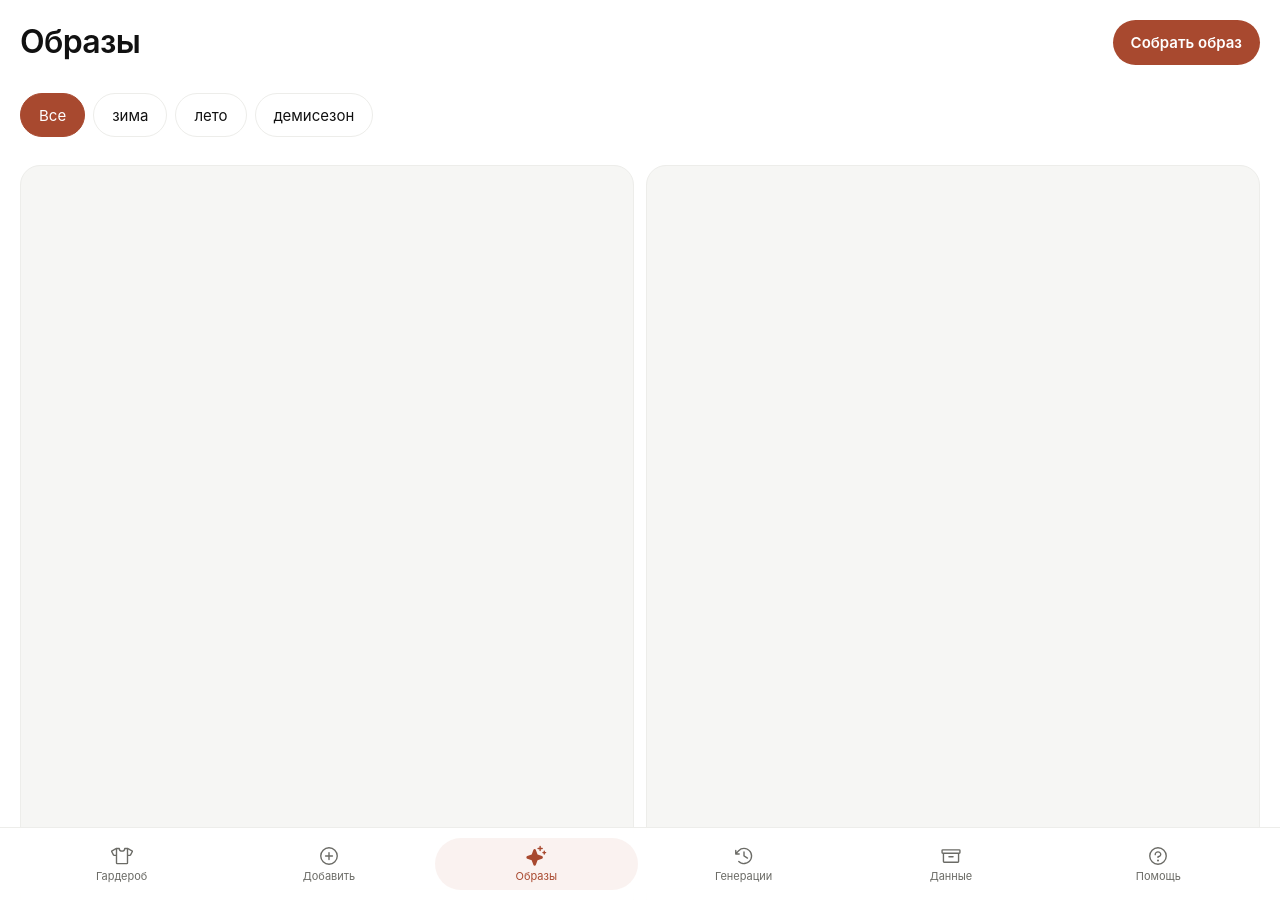
Test: Список образов (T18) › фильтр по сезону прячет чужие образы и возвращает их по «Все»
Click the button "зима": (130, 115) [93, 93, 167, 137]
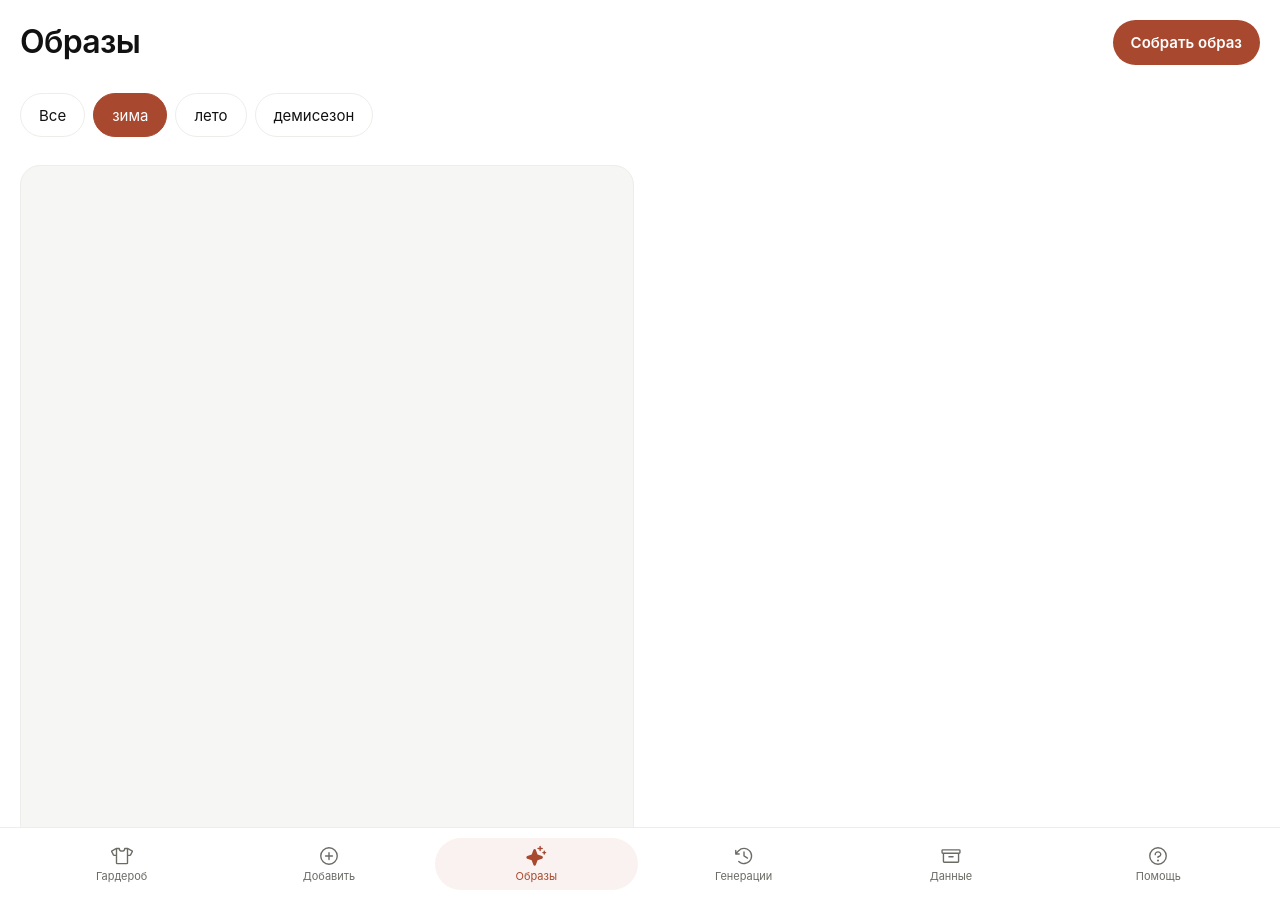
Check: the button "Летний" is not shown
Click the button "Все": (53, 115) [20, 93, 85, 137]
(page scrolled)
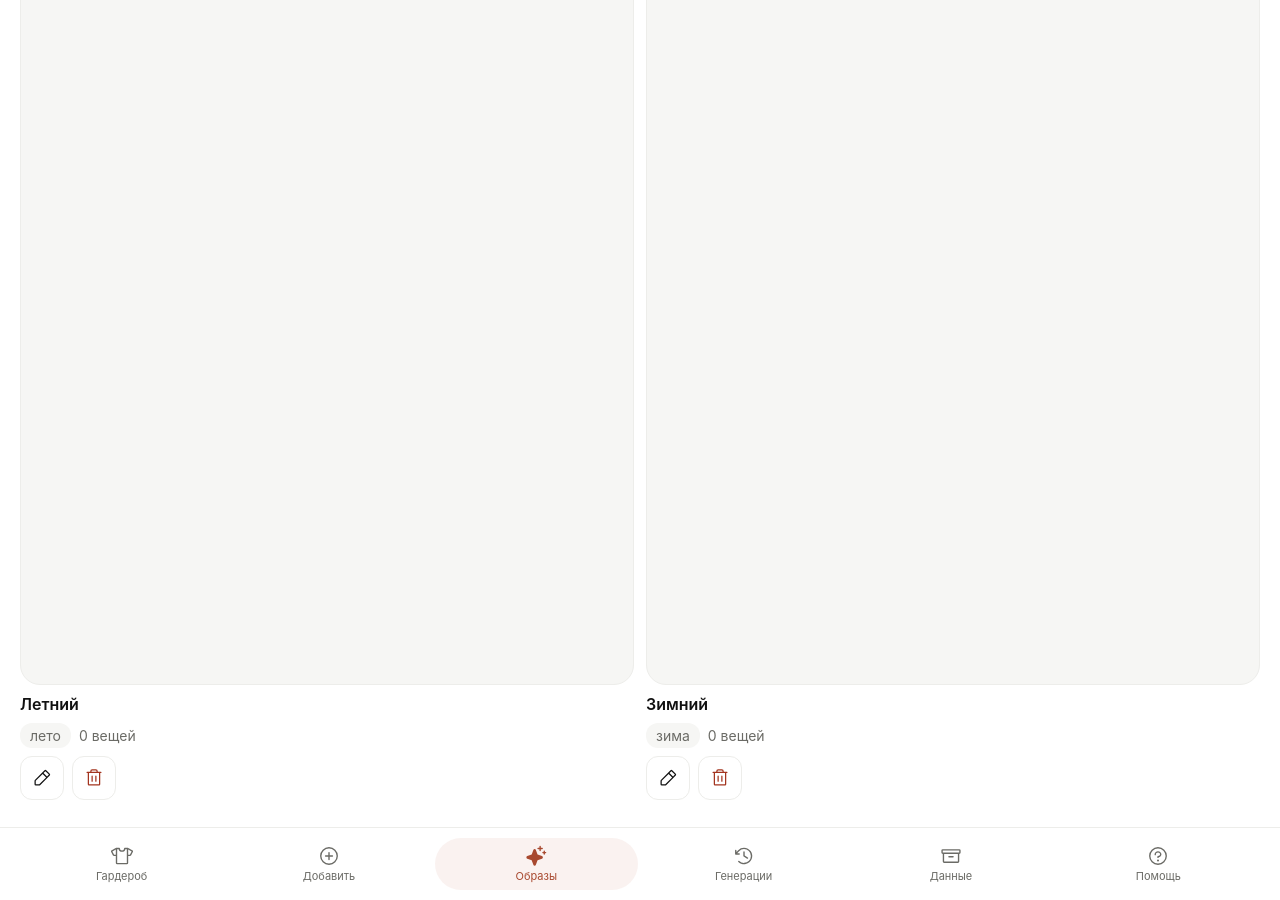
Check: the text "Зимний" is shown, box [646, 692, 708, 715]
Check: the text "Летний" is shown, box [20, 692, 79, 715]
